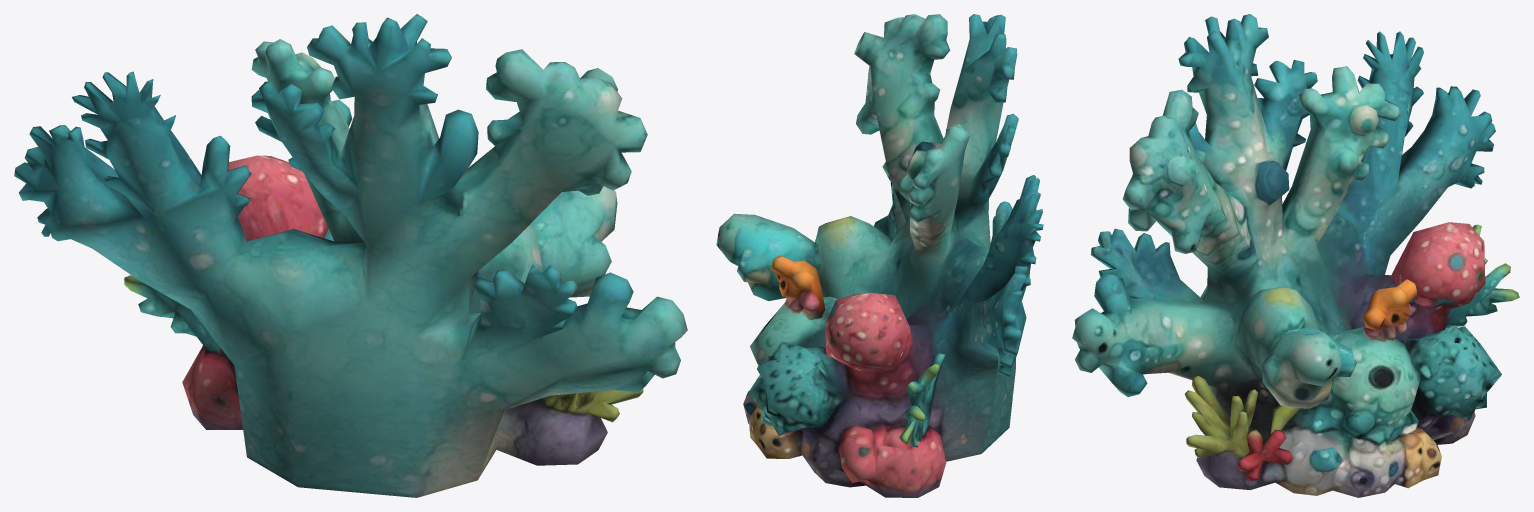
File: coral.glb
3 views of the same model, side by side, from view 1: azimuth 30°, elevation 25°; view 2: azimuth 150°, elevation 25°; view 3: azimuth 270°, elevation 25° (orthographic). The views are drawn at different scales.
Visible parts, largest first — view 1: tripo_node_005a1a94-e538-41d4-ae93-608c9c1853bb; view 2: tripo_node_005a1a94-e538-41d4-ae93-608c9c1853bb; view 3: tripo_node_005a1a94-e538-41d4-ae93-608c9c1853bb.
Boxes of the visible parts, x1,y1,x2,y2 form: tripo_node_005a1a94-e538-41d4-ae93-608c9c1853bb: [14, 14, 687, 497]; tripo_node_005a1a94-e538-41d4-ae93-608c9c1853bb: [716, 14, 1043, 497]; tripo_node_005a1a94-e538-41d4-ae93-608c9c1853bb: [1072, 14, 1519, 497].
Size of the model in its own units: 0.998 by 0.9669 by 0.9864.
Materials: 1 (1 with a texture image).
